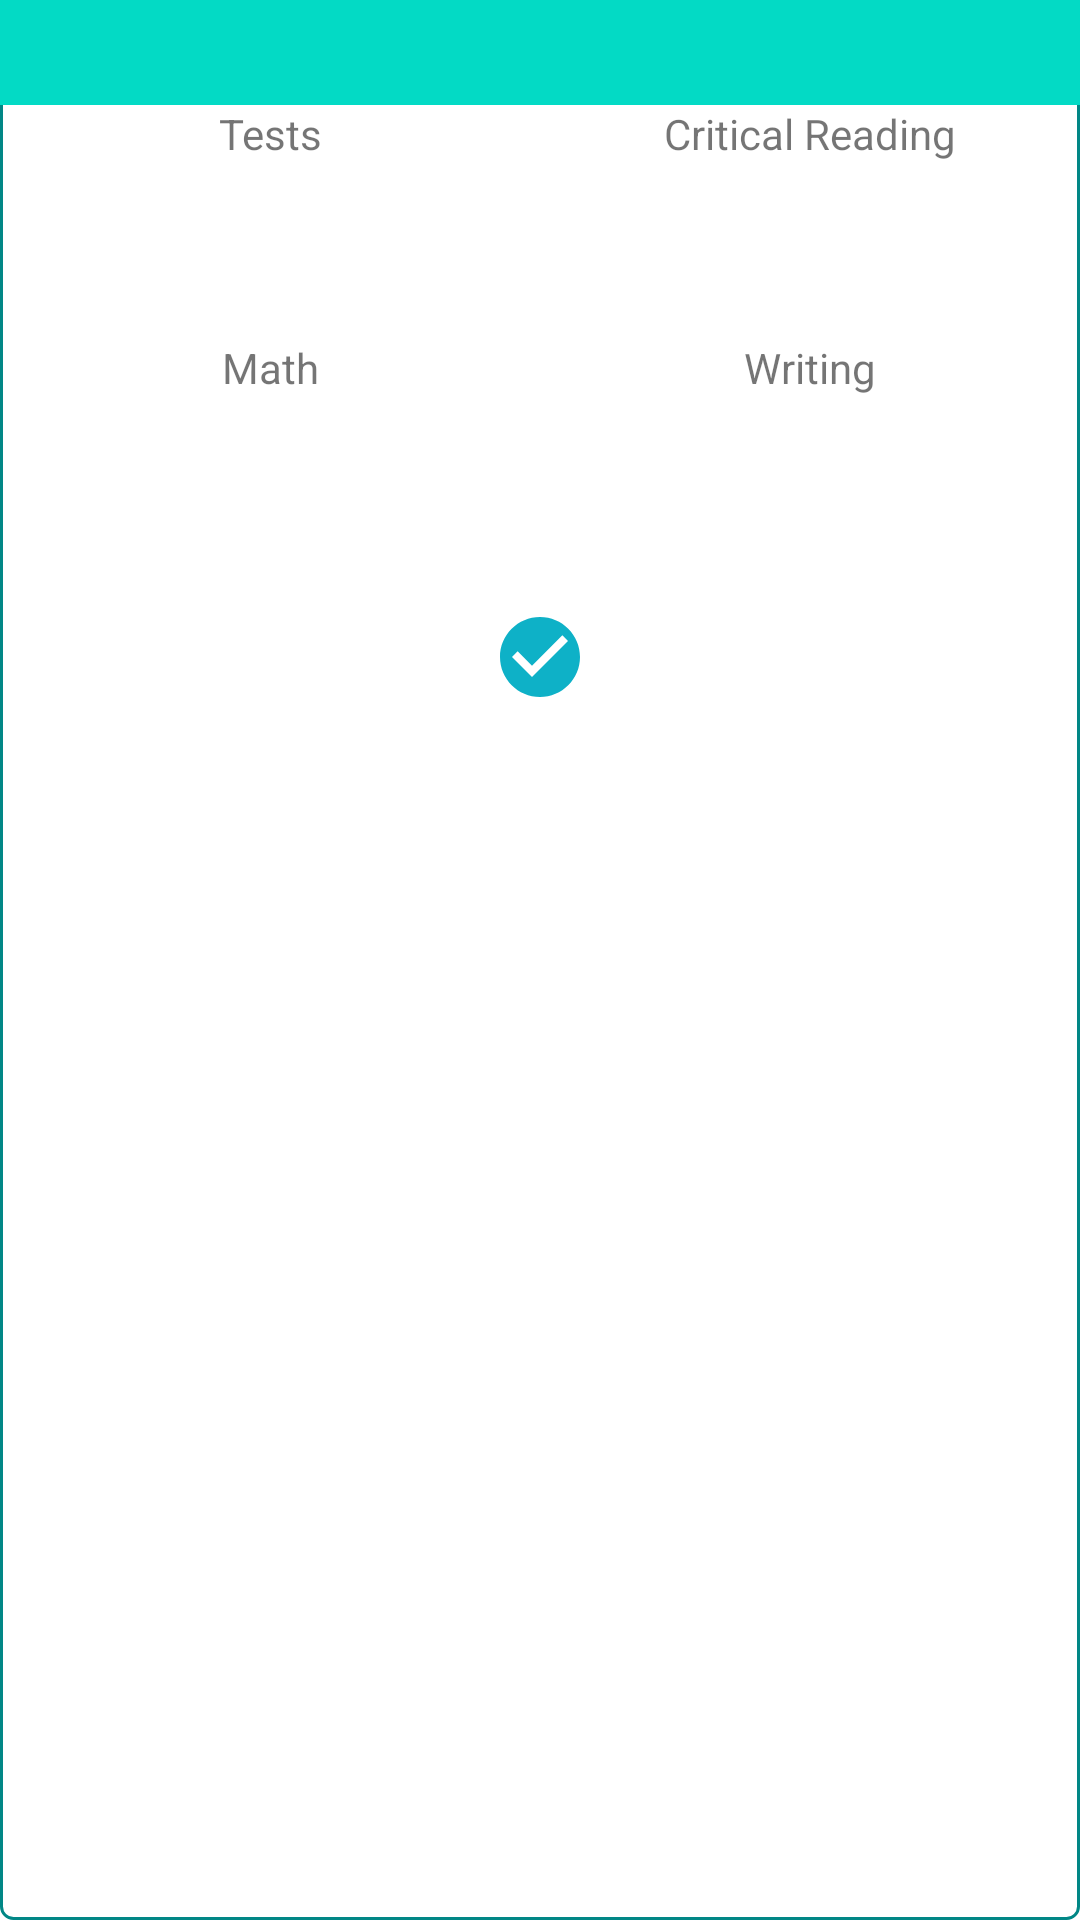

Icons on this 1080x1920 Android screen, each with its box as (x1, y1, x2, y2):
check circle: (500, 617, 580, 697)
